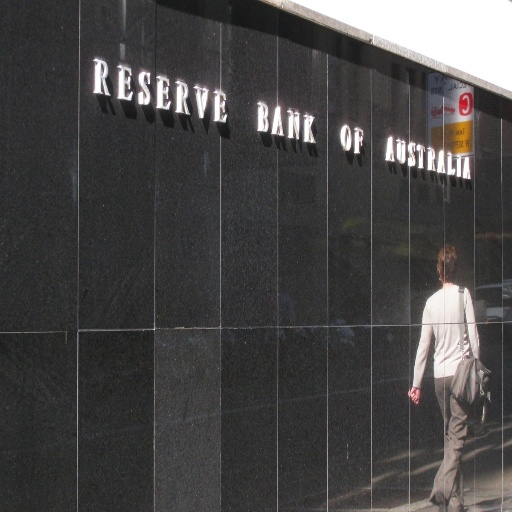hand: (406, 380, 421, 405)
